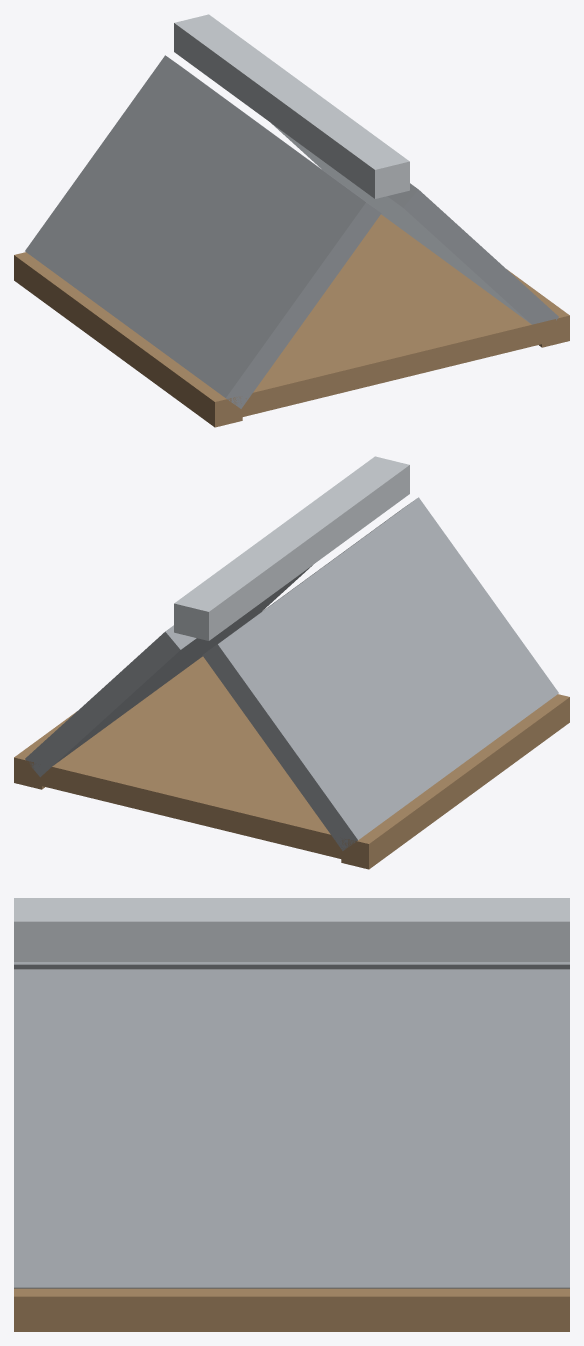
The model's file is kit_roof_gable.glb.
The picture shows the model from 3 angles, top to bottom: view 1: azimuth 30°, elevation 25°; view 2: azimuth 150°, elevation 25°; view 3: azimuth 270°, elevation 25°; orthographic projection. The views are drawn at different scales.
Visible parts, largest first — view 1: slope_-1, tie_beam, ridge, eave_-1, slope_1, eave_1; view 2: slope_-1, tie_beam, ridge, eave_-1, slope_1, eave_1; view 3: slope_1, ridge, eave_1, slope_-1.
Part boxes in pixels (x1,y1,x2,y2): slope_-1: [25, 55, 381, 408]; tie_beam: [229, 214, 555, 420]; ridge: [174, 14, 409, 198]; eave_-1: [14, 252, 242, 427]; slope_1: [271, 123, 558, 324]; eave_1: [507, 269, 569, 347]; slope_-1: [202, 497, 558, 850]; tie_beam: [42, 656, 353, 860]; ridge: [174, 456, 409, 640]; eave_-1: [341, 694, 569, 869]; slope_1: [25, 565, 312, 777]; eave_1: [14, 711, 76, 789]; slope_1: [14, 969, 569, 1288]; ridge: [14, 898, 569, 961]; eave_1: [14, 1288, 569, 1331]; slope_-1: [14, 962, 569, 969].
Bounding box in the file's own units: 1.02 × 0.6 × 1.
